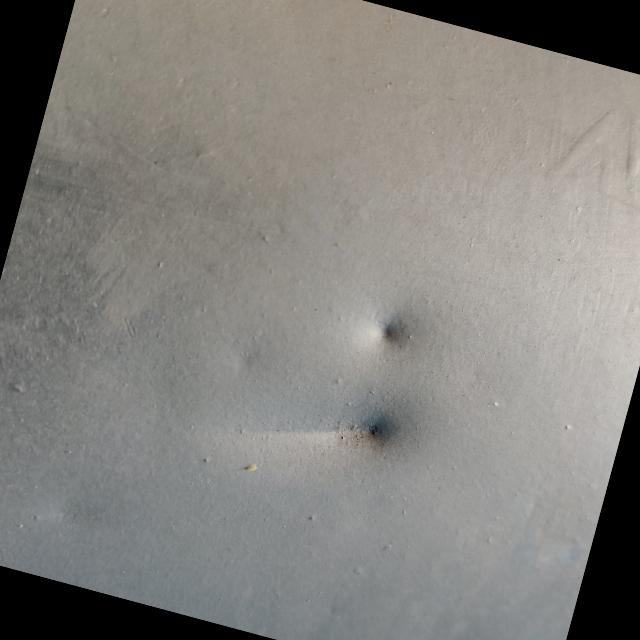dent: (188, 348, 434, 513), (318, 260, 452, 396)
